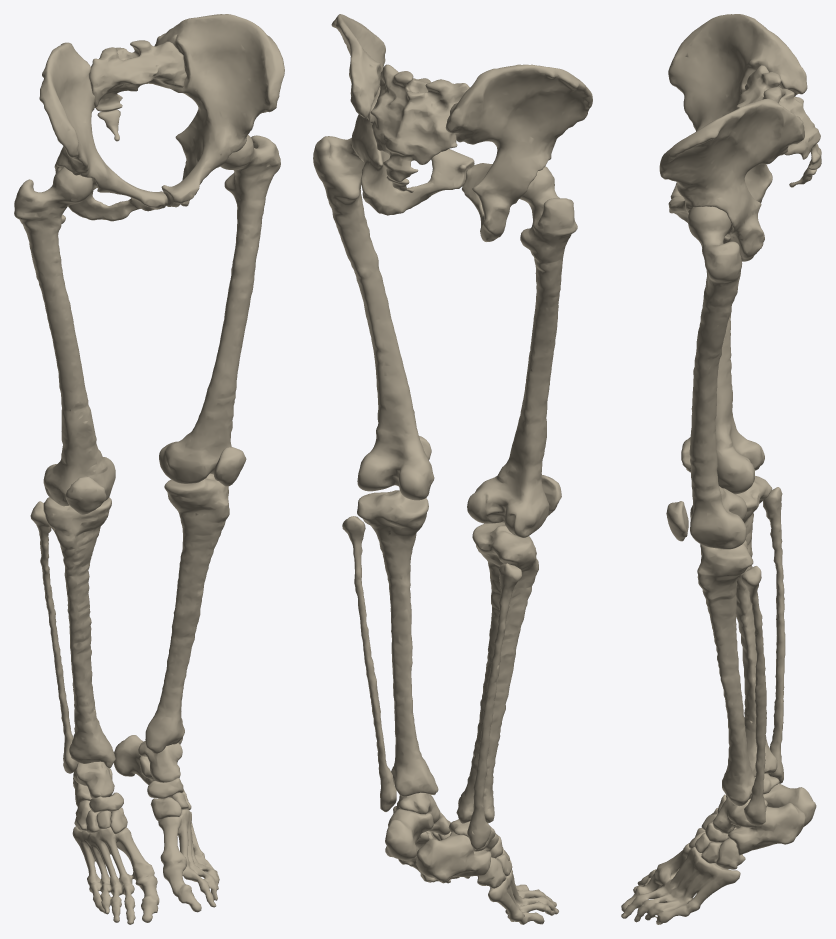
File: vhf_lower_limb_adult_female.skeletal.LOD2.glb
The picture shows the model from 3 angles, left to right: view 1: azimuth 30°, elevation 25°; view 2: azimuth 150°, elevation 25°; view 3: azimuth 270°, elevation 25°; orthographic projection. The views are drawn at different scales.
Visible parts, largest first — view 1: VHF_LOWER_LIMB.ADULT.FEMALE.SKELETAL.HIP_BONE_OS_COXAE.L, VHF_LOWER_LIMB.ADULT.FEMALE.SKELETAL.FEMUR.R, VHF_LOWER_LIMB.ADULT.FEMALE.SKELETAL.FEMUR.L, VHF_LOWER_LIMB.ADULT.FEMALE.SKELETAL.TIBIA.L, VHF_LOWER_LIMB.ADULT.FEMALE.SKELETAL.METATARSALS_AND_PHALANG (×2), VHF_LOWER_LIMB.ADULT.FEMALE.SKELETAL.HIP_BONE_OS_COXAE.R, VHF_LOWER_LIMB.ADULT.FEMALE.SKELETAL.TIBIA.R, VHF_LOWER_LIMB.ADULT.FEMALE.SKELETAL.SACRUM, VHF_LOWER_LIMB.ADULT.FEMALE.SKELETAL.FIBULA.R, VHF_LOWER_LIMB.ADULT.FEMALE.SKELETAL.CALCANEUS.L, VHF_LOWER_LIMB.ADULT.FEMALE.SKELETAL.TALUS.L, VHF_LOWER_LIMB.ADULT.FEMALE.SKELETAL.PATELLA.R (+2 smaller); view 2: VHF_LOWER_LIMB.ADULT.FEMALE.SKELETAL.HIP_BONE_OS_COXAE.R, VHF_LOWER_LIMB.ADULT.FEMALE.SKELETAL.FEMUR.L, VHF_LOWER_LIMB.ADULT.FEMALE.SKELETAL.FEMUR.R, VHF_LOWER_LIMB.ADULT.FEMALE.SKELETAL.TIBIA.L, VHF_LOWER_LIMB.ADULT.FEMALE.SKELETAL.HIP_BONE_OS_COXAE.L, VHF_LOWER_LIMB.ADULT.FEMALE.SKELETAL.TIBIA.R, VHF_LOWER_LIMB.ADULT.FEMALE.SKELETAL.SACRUM, VHF_LOWER_LIMB.ADULT.FEMALE.SKELETAL.FIBULA.R, VHF_LOWER_LIMB.ADULT.FEMALE.SKELETAL.FIBULA.L, VHF_LOWER_LIMB.ADULT.FEMALE.SKELETAL.CALCANEUS.R, VHF_LOWER_LIMB.ADULT.FEMALE.SKELETAL.METATARSALS_AND_PHALANG, VHF_LOWER_LIMB.ADULT.FEMALE.SKELETAL.CALCANEUS.L (+1 smaller); view 3: VHF_LOWER_LIMB.ADULT.FEMALE.SKELETAL.FEMUR.L, VHF_LOWER_LIMB.ADULT.FEMALE.SKELETAL.HIP_BONE_OS_COXAE.L, VHF_LOWER_LIMB.ADULT.FEMALE.SKELETAL.HIP_BONE_OS_COXAE.R, VHF_LOWER_LIMB.ADULT.FEMALE.SKELETAL.TIBIA.L, VHF_LOWER_LIMB.ADULT.FEMALE.SKELETAL.METATARSALS_AND_PHALANG, VHF_LOWER_LIMB.ADULT.FEMALE.SKELETAL.FEMUR.R, VHF_LOWER_LIMB.ADULT.FEMALE.SKELETAL.TIBIA.R, VHF_LOWER_LIMB.ADULT.FEMALE.SKELETAL.FIBULA.L, VHF_LOWER_LIMB.ADULT.FEMALE.SKELETAL.FIBULA.R, VHF_LOWER_LIMB.ADULT.FEMALE.SKELETAL.SACRUM, VHF_LOWER_LIMB.ADULT.FEMALE.SKELETAL.CALCANEUS.L, VHF_LOWER_LIMB.ADULT.FEMALE.SKELETAL.CALCANEUS.R (+3 smaller).
Part boxes in pixels (<box>): VHF_LOWER_LIMB.ADULT.FEMALE.SKELETAL.HIP_BONE_OS_COXAE.L: <box>154,14,284,207</box>; VHF_LOWER_LIMB.ADULT.FEMALE.SKELETAL.FEMUR.R: <box>14,167,115,506</box>; VHF_LOWER_LIMB.ADULT.FEMALE.SKELETAL.FEMUR.L: <box>159,135,280,483</box>; VHF_LOWER_LIMB.ADULT.FEMALE.SKELETAL.TIBIA.L: <box>145,473,229,753</box>; VHF_LOWER_LIMB.ADULT.FEMALE.SKELETAL.METATARSALS_AND_PHALANG (×2): <box>72,809,219,924</box>; VHF_LOWER_LIMB.ADULT.FEMALE.SKELETAL.HIP_BONE_OS_COXAE.R: <box>39,42,167,221</box>; VHF_LOWER_LIMB.ADULT.FEMALE.SKELETAL.TIBIA.R: <box>43,497,115,768</box>; VHF_LOWER_LIMB.ADULT.FEMALE.SKELETAL.SACRUM: <box>89,40,186,111</box>; VHF_LOWER_LIMB.ADULT.FEMALE.SKELETAL.FIBULA.R: <box>30,501,78,773</box>; VHF_LOWER_LIMB.ADULT.FEMALE.SKELETAL.CALCANEUS.L: <box>113,735,154,784</box>; VHF_LOWER_LIMB.ADULT.FEMALE.SKELETAL.TALUS.L: <box>138,741,182,782</box>; VHF_LOWER_LIMB.ADULT.FEMALE.SKELETAL.PATELLA.R: <box>65,476,106,514</box>; VHF_LOWER_LIMB.ADULT.FEMALE.SKELETAL.HIP_BONE_OS_COXAE.R: <box>445,64,592,241</box>; VHF_LOWER_LIMB.ADULT.FEMALE.SKELETAL.FEMUR.L: <box>313,136,434,500</box>; VHF_LOWER_LIMB.ADULT.FEMALE.SKELETAL.FEMUR.R: <box>467,166,577,537</box>; VHF_LOWER_LIMB.ADULT.FEMALE.SKELETAL.TIBIA.L: <box>357,490,438,796</box>; VHF_LOWER_LIMB.ADULT.FEMALE.SKELETAL.HIP_BONE_OS_COXAE.L: <box>331,14,474,215</box>; VHF_LOWER_LIMB.ADULT.FEMALE.SKELETAL.TIBIA.R: <box>456,522,538,823</box>; VHF_LOWER_LIMB.ADULT.FEMALE.SKELETAL.SACRUM: <box>370,64,469,182</box>; VHF_LOWER_LIMB.ADULT.FEMALE.SKELETAL.FIBULA.R: <box>467,563,521,849</box>; VHF_LOWER_LIMB.ADULT.FEMALE.SKELETAL.FIBULA.L: <box>342,516,396,811</box>; VHF_LOWER_LIMB.ADULT.FEMALE.SKELETAL.CALCANEUS.R: <box>416,832,491,881</box>; VHF_LOWER_LIMB.ADULT.FEMALE.SKELETAL.METATARSALS_AND_PHALANG: <box>488,860,558,924</box>; VHF_LOWER_LIMB.ADULT.FEMALE.SKELETAL.CALCANEUS.L: <box>385,809,433,860</box>; VHF_LOWER_LIMB.ADULT.FEMALE.SKELETAL.FEMUR.L: <box>687,206,746,549</box>; VHF_LOWER_LIMB.ADULT.FEMALE.SKELETAL.HIP_BONE_OS_COXAE.L: <box>659,98,804,261</box>; VHF_LOWER_LIMB.ADULT.FEMALE.SKELETAL.HIP_BONE_OS_COXAE.R: <box>668,14,807,202</box>; VHF_LOWER_LIMB.ADULT.FEMALE.SKELETAL.TIBIA.L: <box>697,540,755,806</box>; VHF_LOWER_LIMB.ADULT.FEMALE.SKELETAL.METATARSALS_AND_PHALANG: <box>621,843,740,924</box>; VHF_LOWER_LIMB.ADULT.FEMALE.SKELETAL.FEMUR.R: <box>715,234,764,494</box>; VHF_LOWER_LIMB.ADULT.FEMALE.SKELETAL.TIBIA.R: <box>735,476,777,776</box>; VHF_LOWER_LIMB.ADULT.FEMALE.SKELETAL.FIBULA.L: <box>741,566,766,825</box>; VHF_LOWER_LIMB.ADULT.FEMALE.SKELETAL.FIBULA.R: <box>763,487,785,783</box>; VHF_LOWER_LIMB.ADULT.FEMALE.SKELETAL.SACRUM: <box>736,65,821,169</box>; VHF_LOWER_LIMB.ADULT.FEMALE.SKELETAL.CALCANEUS.L: <box>728,803,805,855</box>; VHF_LOWER_LIMB.ADULT.FEMALE.SKELETAL.CALCANEUS.R: <box>763,783,816,826</box>.
Size of the model in its own units: 0.3252 by 1.02 by 0.217.
